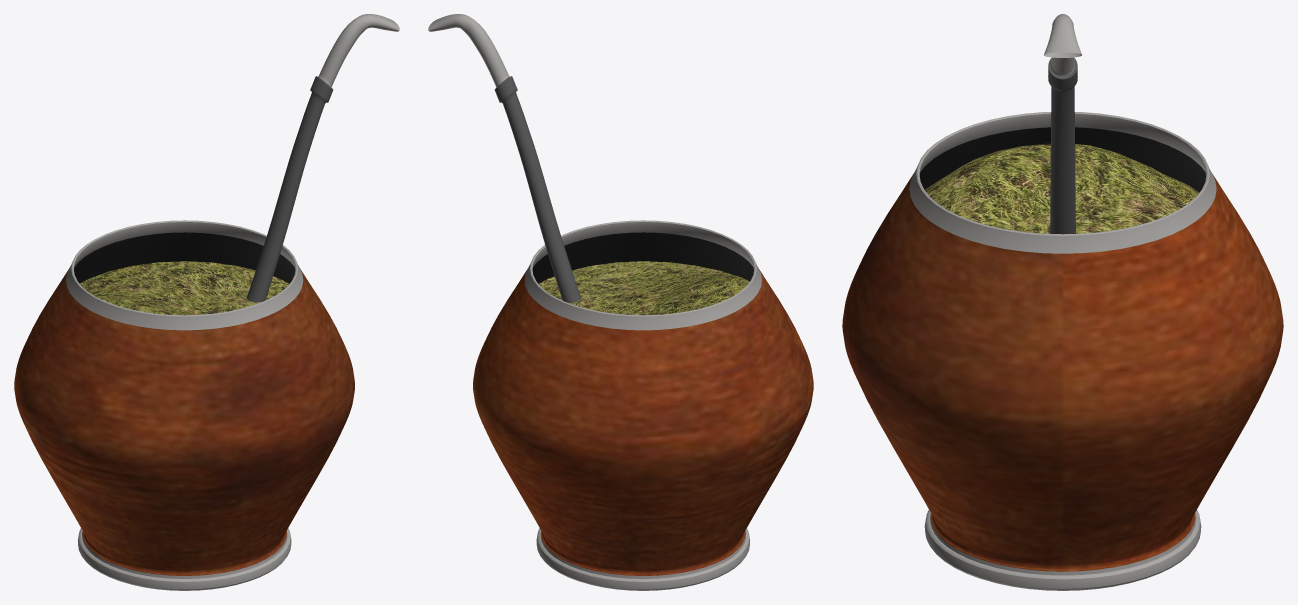
3 views of the same model, side by side, from view 1: azimuth 30°, elevation 25°; view 2: azimuth 150°, elevation 25°; view 3: azimuth 270°, elevation 25° (orthographic). The views are drawn at different scales.
Parts seen in each view (by area): view 1: MATE_5, YERBA_4, BOMBILLA_3; view 2: MATE_5, YERBA_4, BOMBILLA_3; view 3: MATE_5, YERBA_4, BOMBILLA_3.
Boxes of the visible parts, x1,y1,x2,y2 form: MATE_5: (14,220,354,590); YERBA_4: (80,261,288,315); BOMBILLA_3: (246,14,399,302); MATE_5: (473,220,813,590); YERBA_4: (539,261,749,315); BOMBILLA_3: (428,14,580,302); MATE_5: (842,112,1283,590); YERBA_4: (924,143,1199,233); BOMBILLA_3: (1044,14,1081,234).
Bounding box in the file's own units: 2.05 × 2.69 × 1.7.
5 materials, 2 textured.
